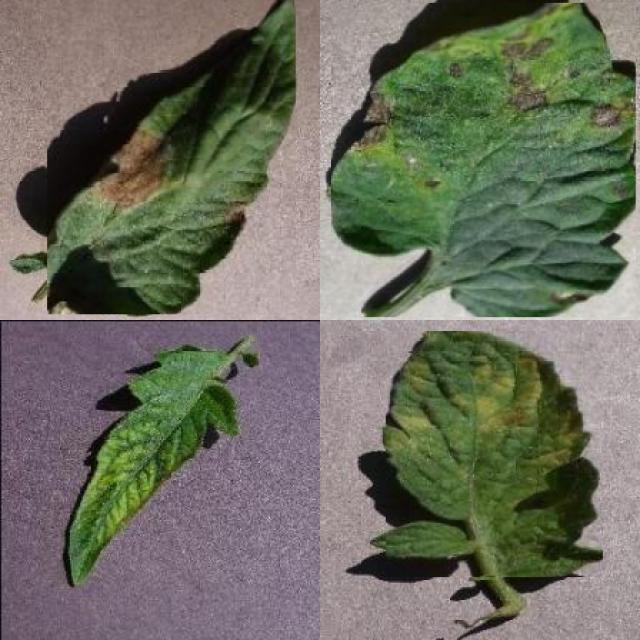Early Blight: (330, 3, 636, 317)
Late Blight: (47, 0, 295, 314)
Leaf Mold: (386, 330, 603, 577)
Mosaic Virus: (63, 347, 240, 590)
